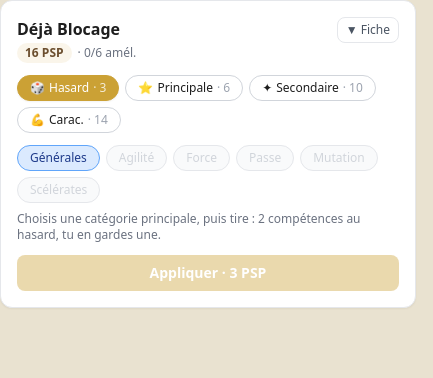
Test: AdvancementEditor › ne propose pas une compétence déjà possédée par le joueur
Expected: the text "Déjà Blocage" is shown, [17,17,136,41]
Click the button with test id "level-up-type-primary-own1" at point(184, 88), box [125,75,243,101]
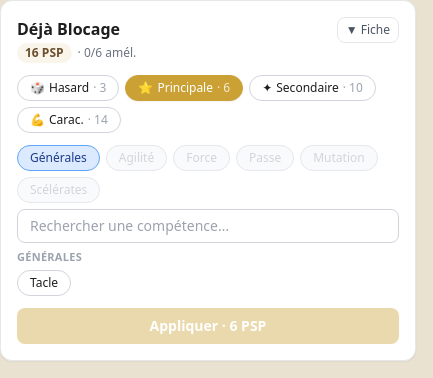
Expected: the button with test id "level-up-skill-tackle-own1" is shown, [17,270,71,296]
